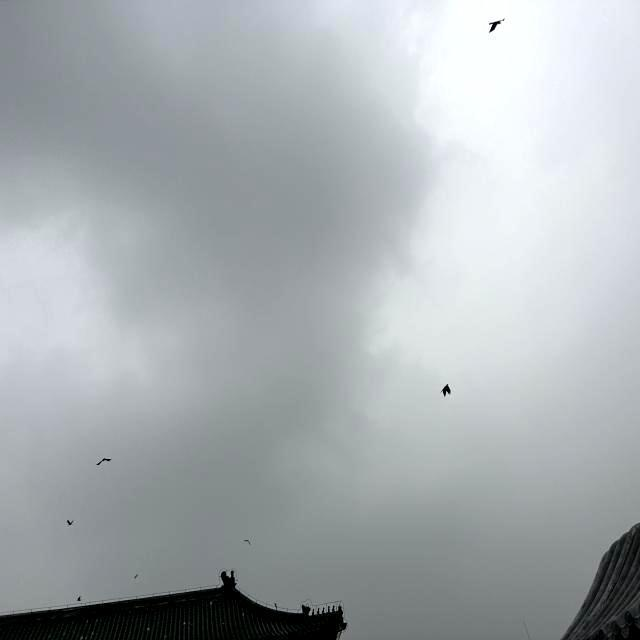bird: (483, 11, 508, 37), (94, 453, 118, 475), (435, 381, 455, 406), (241, 532, 260, 550), (64, 516, 80, 532)
